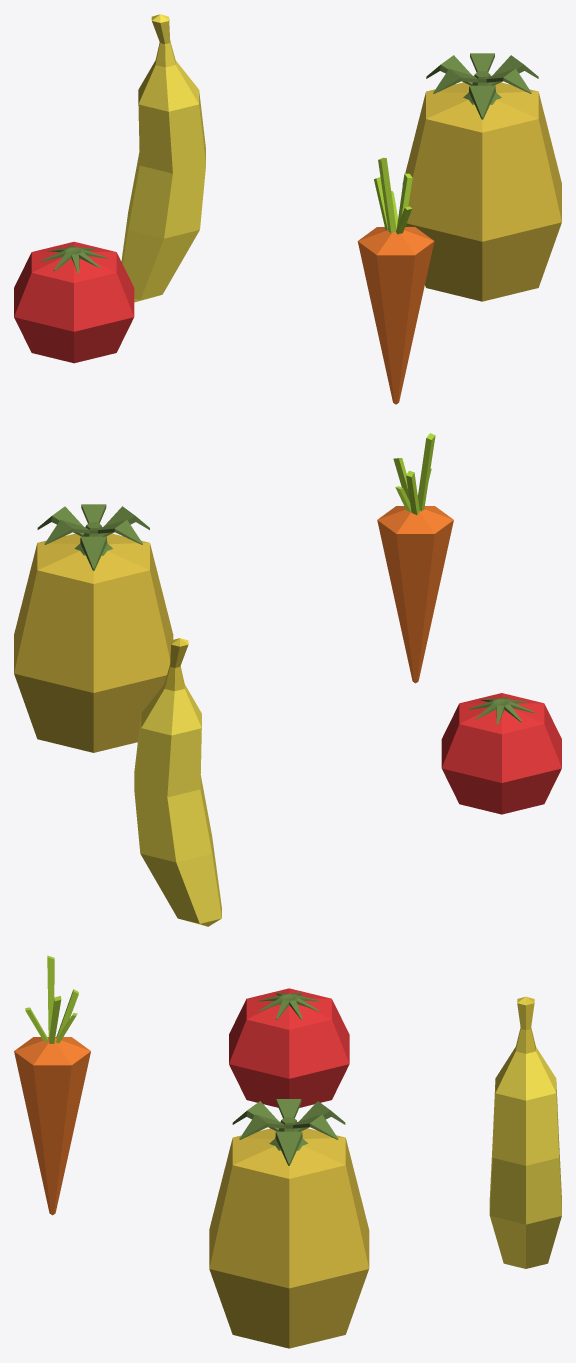
The model's file is Fruits.fbx.
3 views of the same model, one above another, from view 1: azimuth 30°, elevation 25°; view 2: azimuth 150°, elevation 25°; view 3: azimuth 270°, elevation 25° (orthographic).
Parts seen in each view (by area): view 1: Pineapple, Banana, Tomato, Carrot; view 2: Pineapple, Banana, Tomato, Carrot; view 3: Pineapple, Banana, Tomato, Carrot.
Boxes of the visible parts, left/top/right/bottom form: Pineapple: left=402, top=53, right=561, bottom=301; Banana: left=121, top=14, right=205, bottom=302; Tomato: left=14, top=241, right=134, bottom=363; Carrot: left=357, top=157, right=434, bottom=404; Pineapple: left=14, top=504, right=173, bottom=752; Banana: left=134, top=638, right=221, bottom=926; Tomato: left=441, top=693, right=561, bottom=814; Carrot: left=377, top=433, right=453, bottom=683; Pineapple: left=209, top=1099, right=369, bottom=1348; Banana: left=489, top=996, right=561, bottom=1268; Tomato: left=229, top=988, right=349, bottom=1107; Carrot: left=14, top=955, right=90, bottom=1215.
Size of the model in its own units: 537 by 295 by 463.
